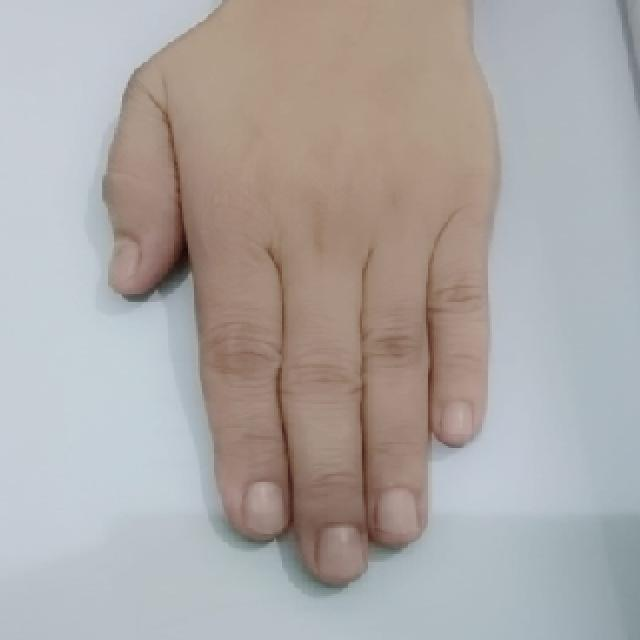Nail: (316, 525, 365, 579), (245, 481, 286, 534), (375, 488, 417, 534), (109, 235, 141, 292), (440, 401, 474, 446)
